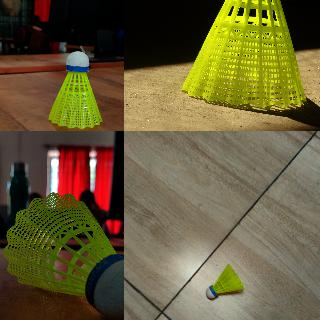shuttlecock: (2, 193, 123, 319), (181, 0, 307, 107), (48, 51, 102, 128), (205, 263, 242, 303)
